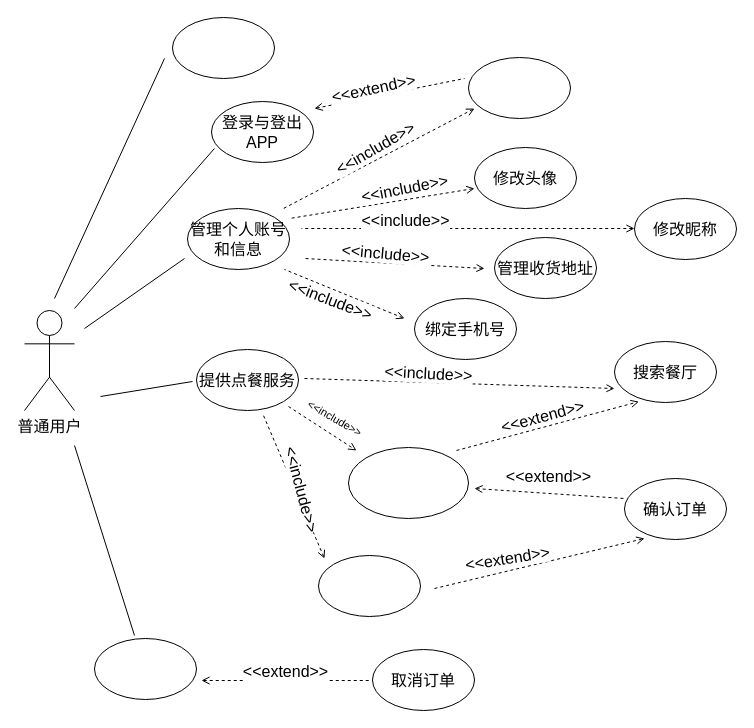
Image size: 754x728. Some labels were removed from this diagram. Each missing label, with the centre of its shape:
"下单支付" belongs at pixel 369 585.
"修改密码" belongs at pixel 519 87.
"查看商家详细信息" belongs at pixel 408 482.
"查看订单" belongs at pixel 145 669.
"注册用户" belongs at pixel 223 47.
